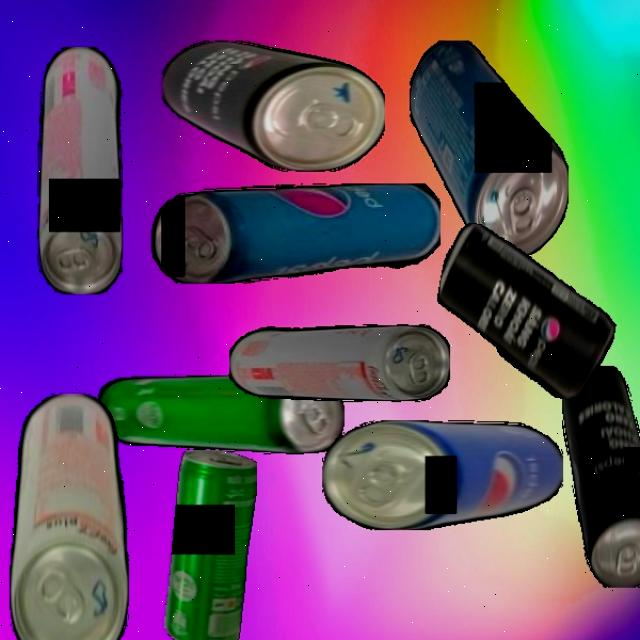debris: (425, 220, 628, 405), (408, 40, 568, 258), (8, 392, 129, 640), (150, 182, 440, 284), (161, 40, 385, 172), (322, 419, 563, 530), (36, 46, 123, 294), (97, 374, 345, 454), (164, 449, 257, 640), (561, 365, 640, 588), (228, 324, 450, 402)
